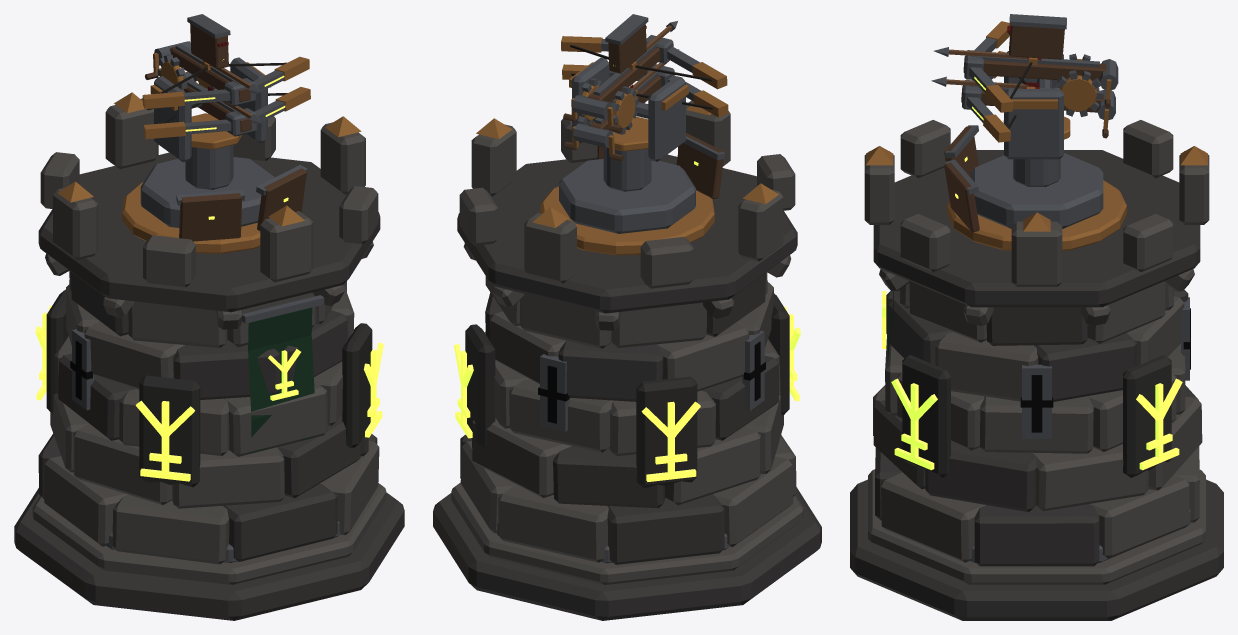
The model's file is crossbow_tower_rapid.glb.
The picture shows the model from 3 angles, left to right: view 1: azimuth 30°, elevation 25°; view 2: azimuth 150°, elevation 25°; view 3: azimuth 270°, elevation 25°; orthographic projection. The views are drawn at different scales.
Visible parts, largest first — view 1: Platform, Plinth, Plinth_Step, Block_0_5, Block_0_6, Block_1_5, RuneStone_3, Banner, Block_2_6, Block_3_5, Turret_Base, Block_1_4 (+42 smaller); view 2: Platform, Plinth, Plinth_Step, Turret_Base, Block_0_3, Block_0_2, Block_1_2, RuneStone_2, Block_3_2, Block_1_1, Block_2_2, Block_1_3 (+40 smaller); view 3: Platform, Plinth, Plinth_Step, Block_0_0, Turret_Base, Block_0_7, Block_1_7, Block_1_0, Block_2_0, Block_0_1, Block_3_7, Block_3_0 (+39 smaller).
Part boxes in pixels (<box>): Platform: <box>38,152,380,312</box>; Plinth: <box>14,488,404,620</box>; Plinth_Step: <box>32,483,386,584</box>; Block_0_5: <box>112,495,229,564</box>; Block_0_6: <box>223,484,337,561</box>; Block_1_5: <box>172,447,284,508</box>; RuneStone_3: <box>139,375,200,487</box>; Banner: <box>248,307,314,452</box>; Block_2_6: <box>224,380,327,456</box>; Block_3_5: <box>173,340,279,399</box>; Turret_Base: <box>140,157,274,227</box>; Block_1_4: <box>73,423,172,504</box>; Platform: <box>457,154,797,313</box>; Plinth: <box>433,487,821,620</box>; Plinth_Step: <box>451,482,803,584</box>; Turret_Base: <box>559,159,695,233</box>; Block_0_3: <box>607,494,724,564</box>; Block_0_2: <box>498,485,608,562</box>; Block_1_2: <box>553,446,665,508</box>; RuneStone_2: <box>636,376,697,487</box>; Block_3_2: <box>558,340,663,401</box>; Block_1_1: <box>472,418,571,497</box>; Block_2_2: <box>509,379,613,452</box>; Block_1_3: <box>665,426,760,505</box>; Platform: <box>873,150,1200,307</box>; Plinth: <box>850,479,1223,620</box>; Plinth_Step: <box>868,469,1205,584</box>; Block_0_0: <box>974,504,1099,566</box>; Turret_Base: <box>970,153,1103,228</box>; Block_0_7: <box>881,472,985,562</box>; Block_1_7: <box>925,442,1036,512</box>; Block_1_0: <box>1032,444,1148,511</box>; Block_2_0: <box>980,396,1093,453</box>; Block_0_1: <box>1089,475,1189,558</box>; Block_3_7: <box>935,332,1038,401</box>; Block_3_0: <box>1034,333,1136,401</box>.
Size of the model in its own units: 2.49 by 3.88 by 2.49.
